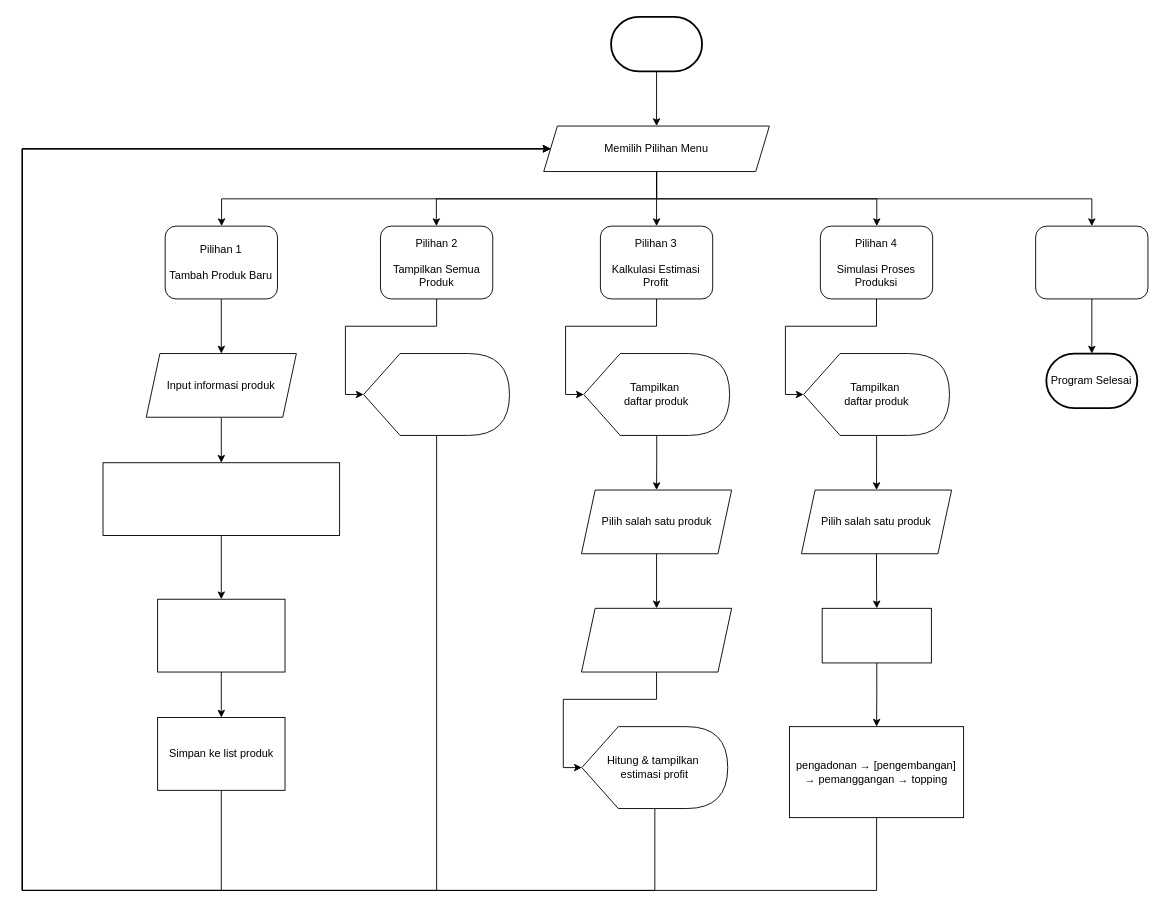
The diagram is 1164 pixels wide and 914 high, and some of its shapes have lost their labels. Here are the shapes that lost their labels. From the top down, the centre of each, then its label:
At [656,43]: "Program Mulai".
At [1091,262]: "Pilihan 5 Keluar".
At [436,394]: "Tampilkan seluruh informasi produk dalam list".
At [221,499]: "nama, kode, bahan baku, biaya, harga, jenis produk".
At [221,635]: "Buat objek sesuai jenis produk".
At [656,639]: "Input jumlah pcs".
At [876,635]: "Jalankan langkah-langkah".
